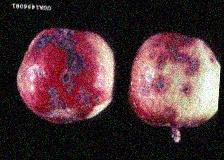rotten apple: (15, 27, 115, 125), (130, 29, 219, 129)
